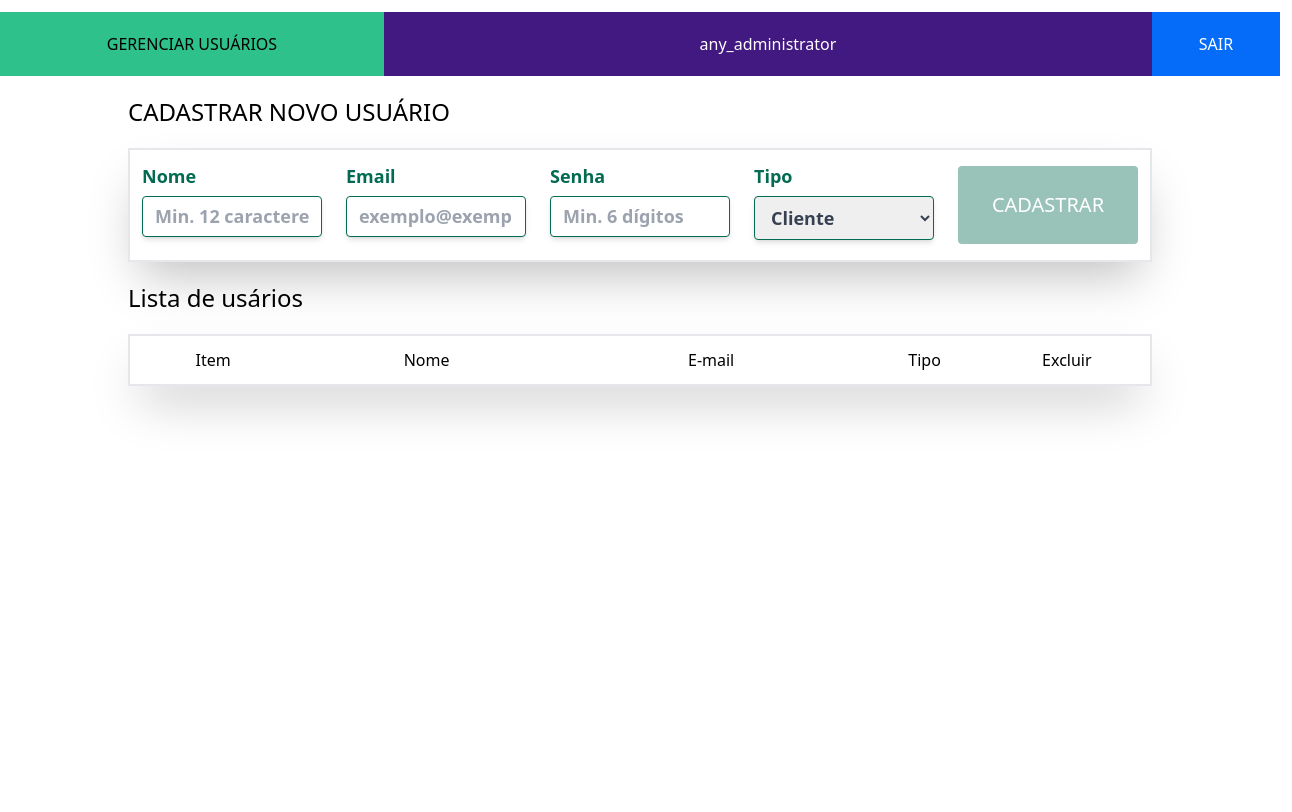
Test: Testing screen AdmPage › Unable to register an user who is already registered
The image size is (1292, 812).
Expected: the button with test id "admin_manage__button-register" is disabled, [958, 166, 1138, 244]
Type "Tio da Silva" into the field with test id "admin_manage__input-name" at (232, 216), box [142, 196, 322, 236]
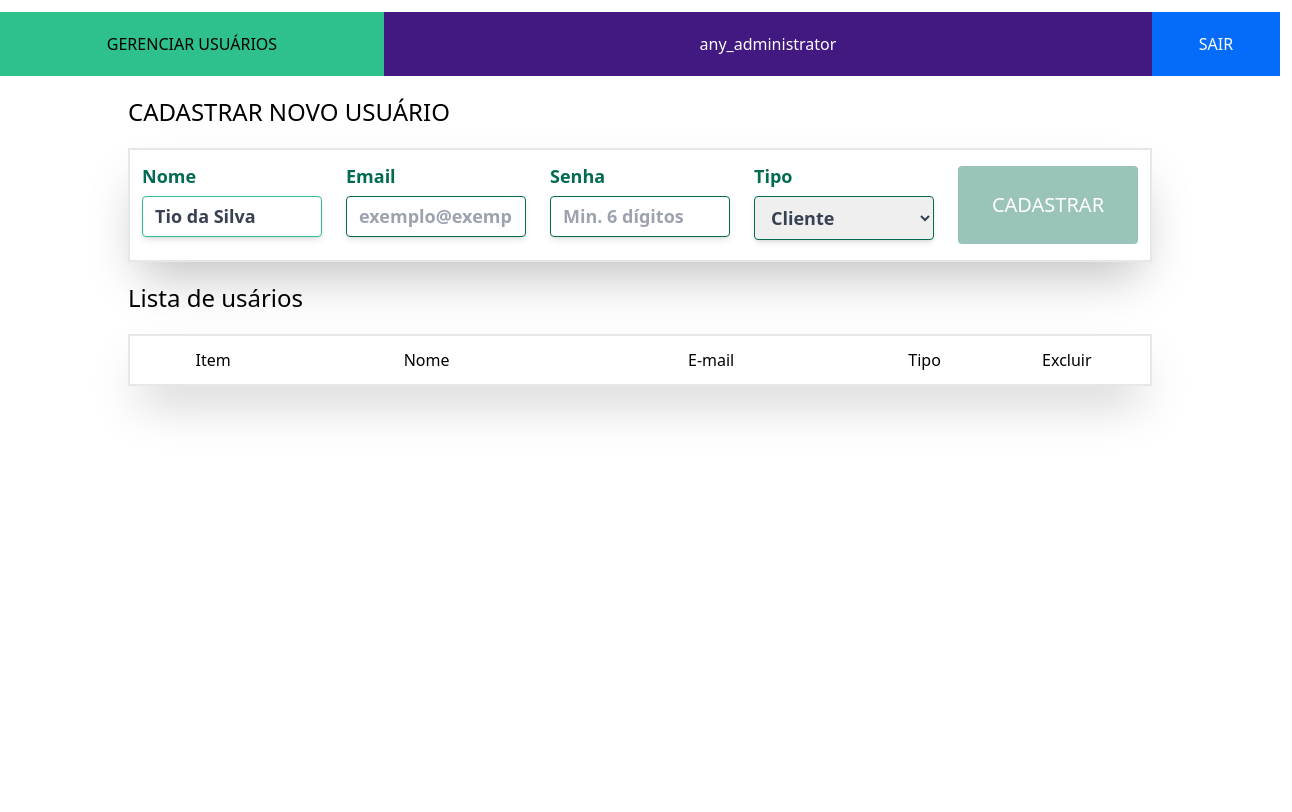
Type "simposio@email.com" into the field with test id "admin_manage__input-email" at (436, 216), box [346, 196, 526, 236]
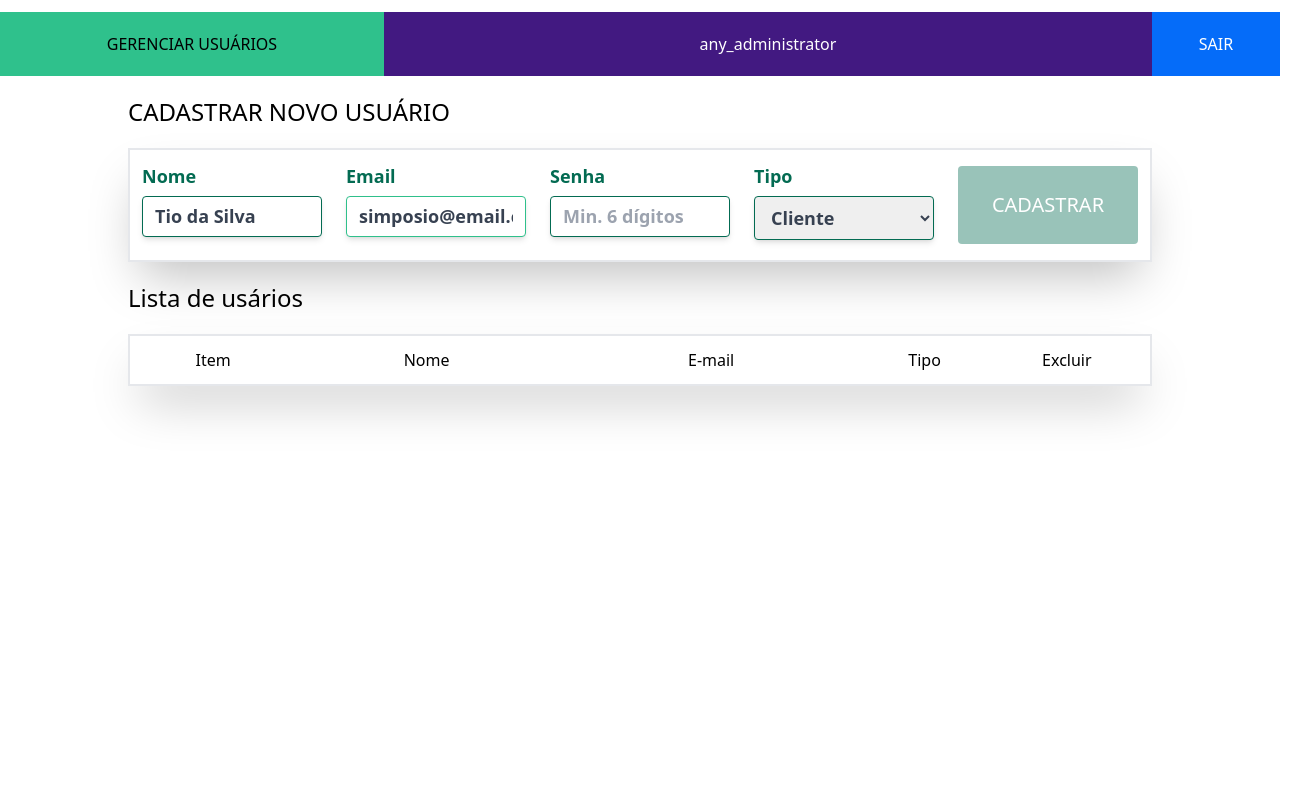
Type "!senhaS3CR3T4#" into the password field with test id "admin_manage__input-password" at (640, 216), box [550, 196, 730, 236]
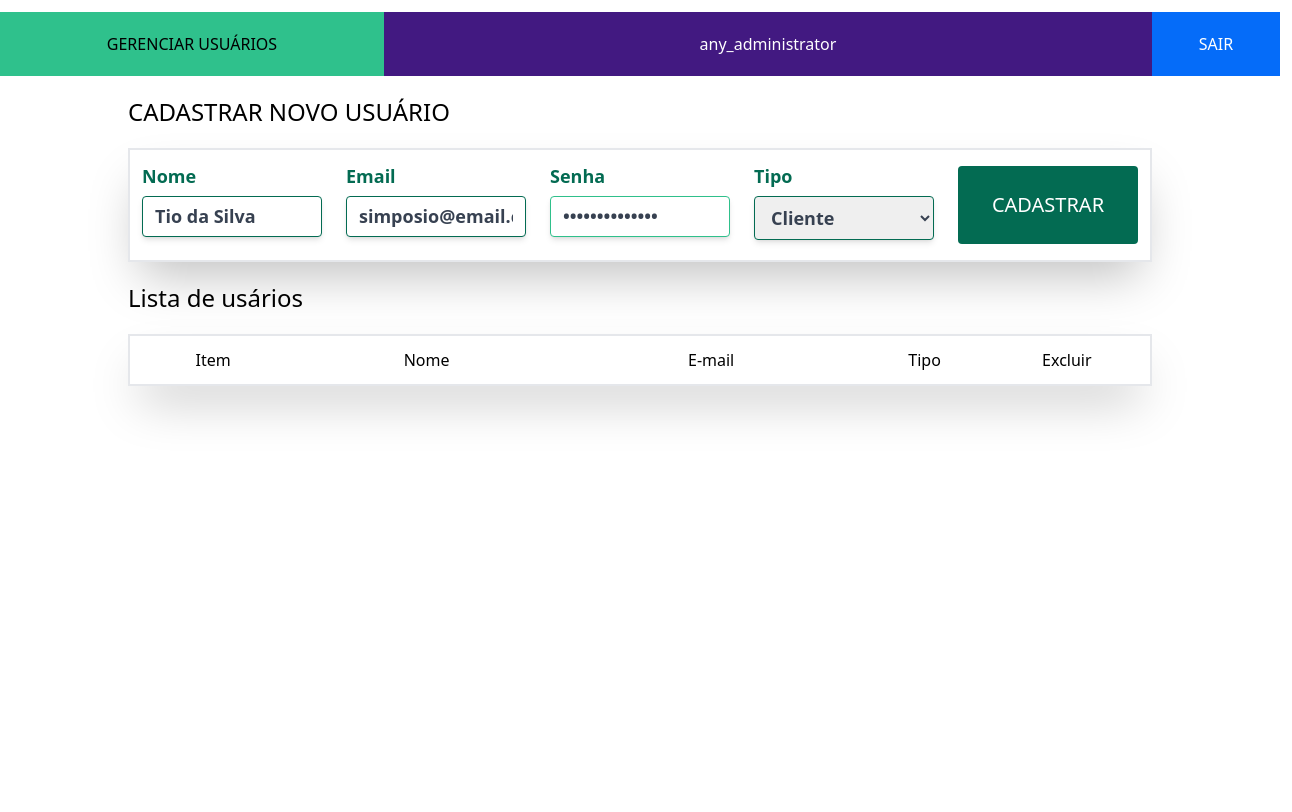
Select "Vendedor" in the dropdown with test id "admin_manage__select-role" at (844, 218), box [754, 196, 934, 240]
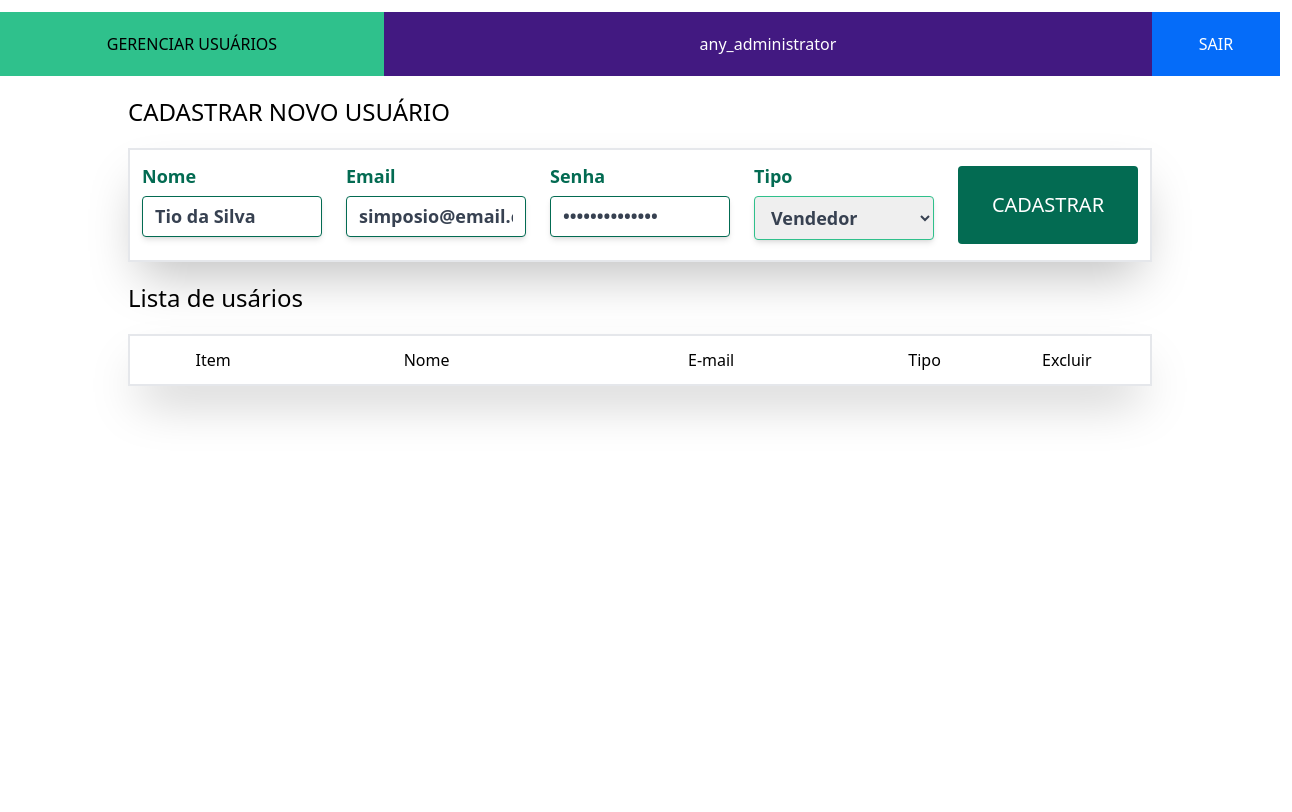
Now the button with test id "admin_manage__button-register" is enabled
Click the button with test id "admin_manage__button-register" at (1048, 205), box [958, 166, 1138, 244]
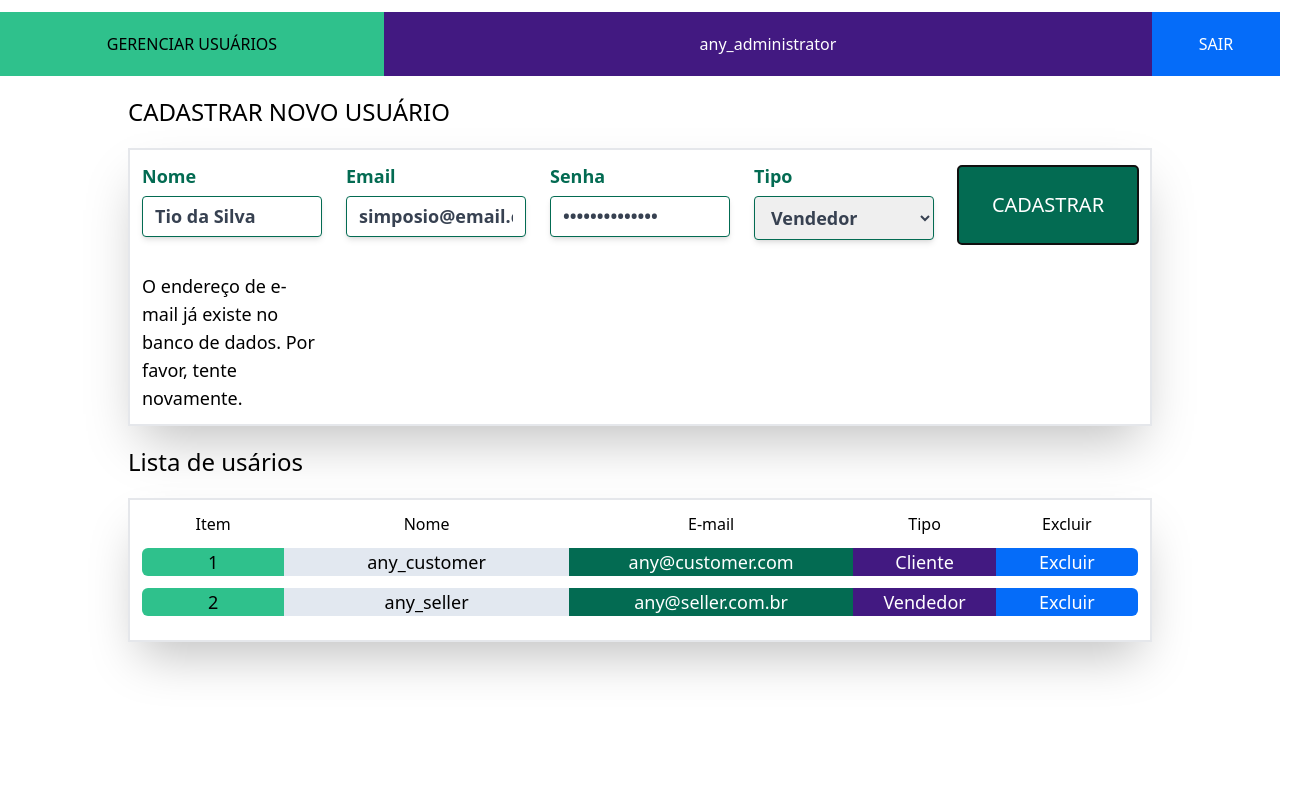
Now the text with test id "admin_manage__element-invalid-register" is shown, box [142, 272, 322, 412]
